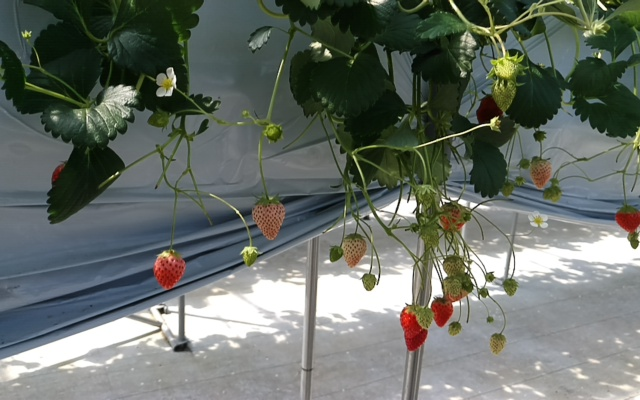GreenStrawberry: (250, 197, 286, 241), (490, 75, 517, 113), (490, 55, 524, 85), (340, 233, 368, 269), (529, 156, 553, 190), (442, 255, 466, 283), (412, 306, 434, 330), (489, 332, 507, 357), (240, 245, 260, 267), (440, 276, 462, 294), (360, 273, 377, 293), (498, 178, 514, 198), (503, 279, 518, 297), (446, 322, 462, 338)
MatureStrawberry: (153, 250, 186, 292), (438, 199, 470, 238), (403, 312, 430, 353), (399, 302, 425, 338), (431, 297, 454, 331), (614, 204, 640, 233)
